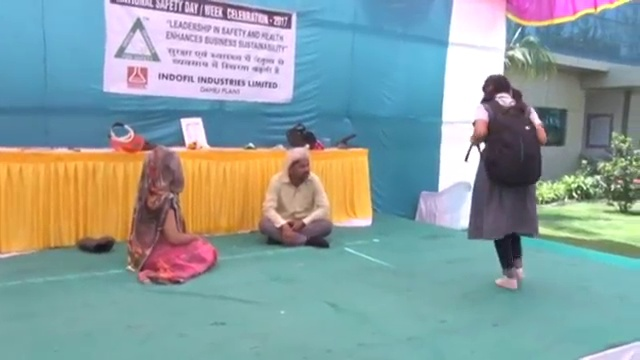helmet_off: (142, 147, 182, 191), (480, 72, 517, 100), (285, 148, 311, 184)
person: (464, 71, 550, 289), (127, 147, 220, 288), (259, 147, 333, 249)
